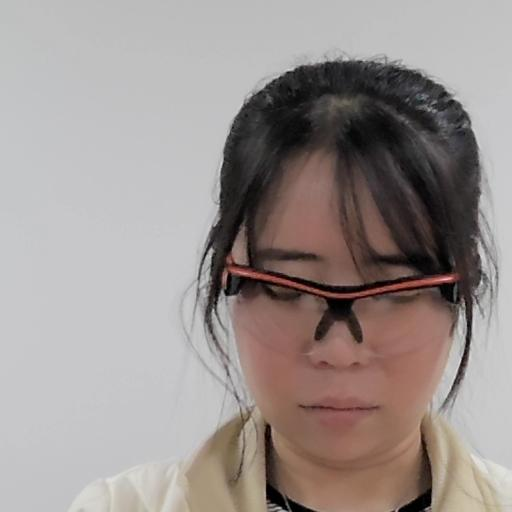glasses: (206, 60, 473, 447)
